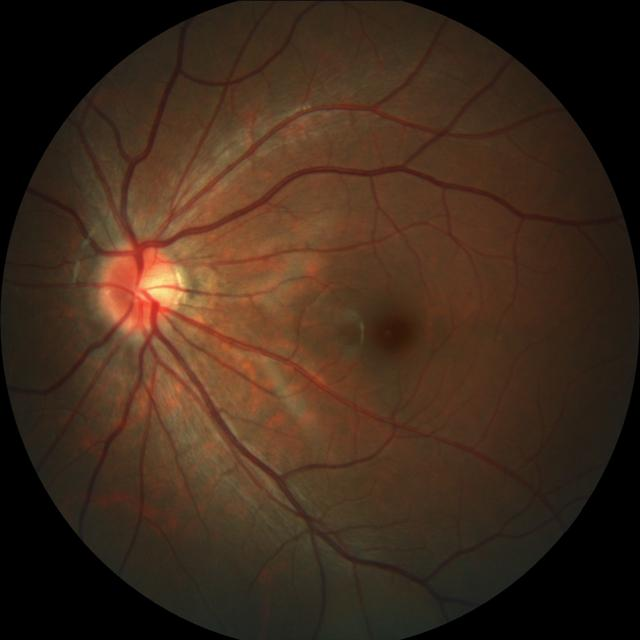OC: (130, 265, 172, 307)
OD: (101, 244, 178, 334)
